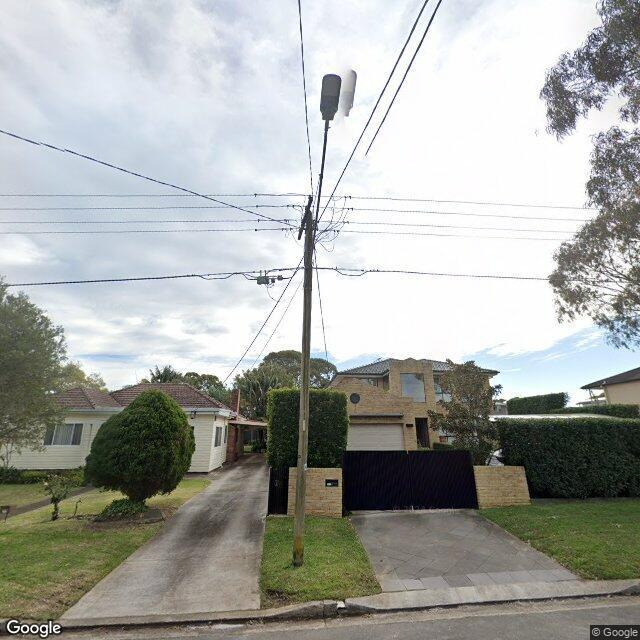crossarm: (297, 195, 313, 240)
streetlight: (310, 68, 356, 254)
timber-pole: (294, 207, 312, 567)
